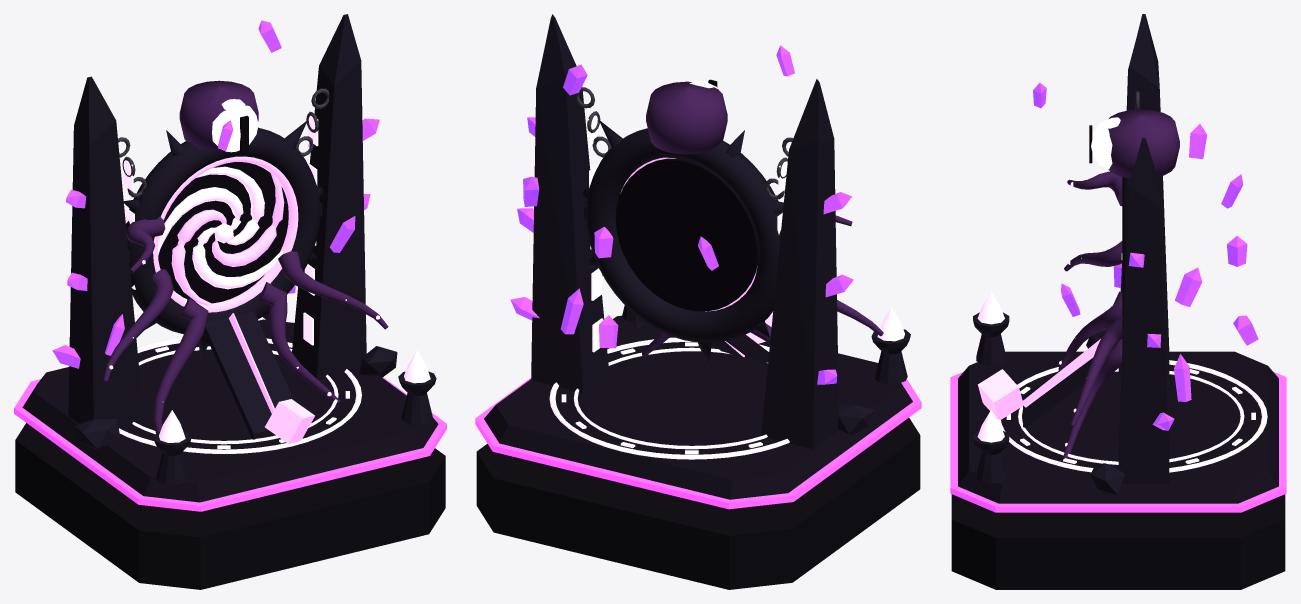
File: VoidRiftMine_Roblox.fbx
3 renders of one model, left to right at view 1: azimuth 30°, elevation 25°; view 2: azimuth 150°, elevation 25°; view 3: azimuth 270°, elevation 25°, orthographic. The views are drawn at different scales.
Visible parts, largest first — view 1: Obsidian, Black, VoidMarble, TentacleFlesh, VoidCore, RiftSwirl, RiftSwirlPink, VoidTrim, RuneGlow, VoidShard, VoidOre, EyeWhite (+1 smaller); view 2: Obsidian, Black, VoidMarble, VoidCore, TentacleFlesh, VoidTrim, VoidShard, RuneGlow, ChainIron, RiftSwirlPink; view 3: VoidMarble, Black, Obsidian, TentacleFlesh, VoidTrim, VoidShard, RuneGlow, VoidOre, RiftSwirlPink, EyeWhite, RiftSwirl.
Boxes of the visible parts, x1=… form: Obsidian: x1=68, y1=14, x2=436, y2=484; Black: x1=15, y1=423, x2=445, y2=589; VoidMarble: x1=22, y1=319, x2=438, y2=502; TentacleFlesh: x1=103, y1=80, x2=388, y2=433; VoidCore: x1=158, y1=162, x2=288, y2=303; RiftSwirl: x1=153, y1=156, x2=298, y2=413; RiftSwirlPink: x1=109, y1=166, x2=430, y2=442; VoidTrim: x1=14, y1=377, x2=446, y2=511; RuneGlow: x1=119, y1=115, x2=361, y2=453; VoidShard: x1=52, y1=20, x2=379, y2=368; VoidOre: x1=265, y1=399, x2=314, y2=443; EyeWhite: x1=212, y1=99, x2=258, y2=152; Obsidian: x1=531, y1=14, x2=910, y2=448; Black: x1=476, y1=418, x2=920, y2=589; VoidMarble: x1=484, y1=315, x2=912, y2=499; VoidCore: x1=615, y1=158, x2=758, y2=311; TentacleFlesh: x1=602, y1=81, x2=883, y2=356; VoidTrim: x1=475, y1=377, x2=921, y2=509; VoidShard: x1=510, y1=45, x2=853, y2=384; RuneGlow: x1=549, y1=115, x2=789, y2=459; ChainIron: x1=576, y1=87, x2=793, y2=199; RiftSwirlPink: x1=836, y1=215, x2=904, y2=341; VoidMarble: x1=958, y1=351, x2=1278, y2=503; Black: x1=951, y1=494, x2=1285, y2=589; Obsidian: x1=973, y1=14, x2=1169, y2=495; TentacleFlesh: x1=1058, y1=109, x2=1179, y2=457; VoidTrim: x1=950, y1=371, x2=1286, y2=512; VoidShard: x1=1033, y1=83, x2=1258, y2=430; RuneGlow: x1=997, y1=360, x2=1267, y2=472; VoidOre: x1=977, y1=369, x2=1023, y2=420; RiftSwirlPink: x1=977, y1=182, x2=1122, y2=446; EyeWhite: x1=1091, y1=117, x2=1120, y2=169; RiftSwirl: x1=1022, y1=339, x2=1100, y2=407.
Size of the model in its own units: 1153 by 1530 by 1058.
